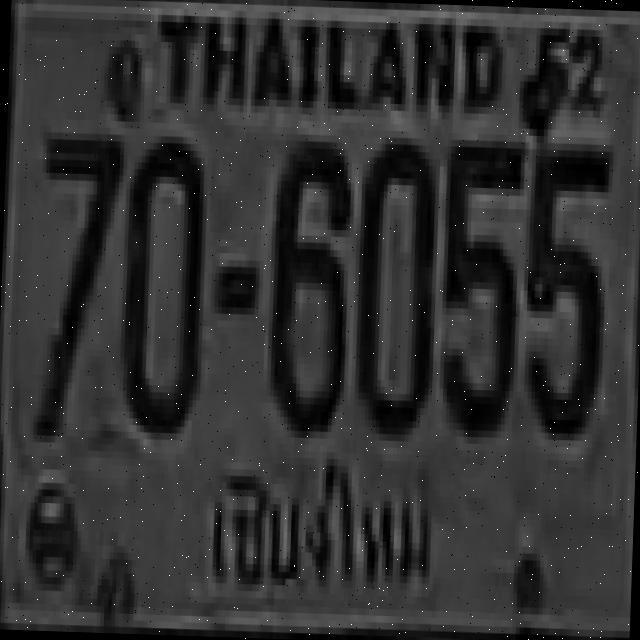0: (349, 132, 436, 432), (118, 132, 205, 430)
5: (434, 132, 522, 431), (521, 135, 608, 434)
6: (265, 133, 349, 432)
7: (29, 125, 120, 438)
ChiangMai: (194, 465, 443, 606)
